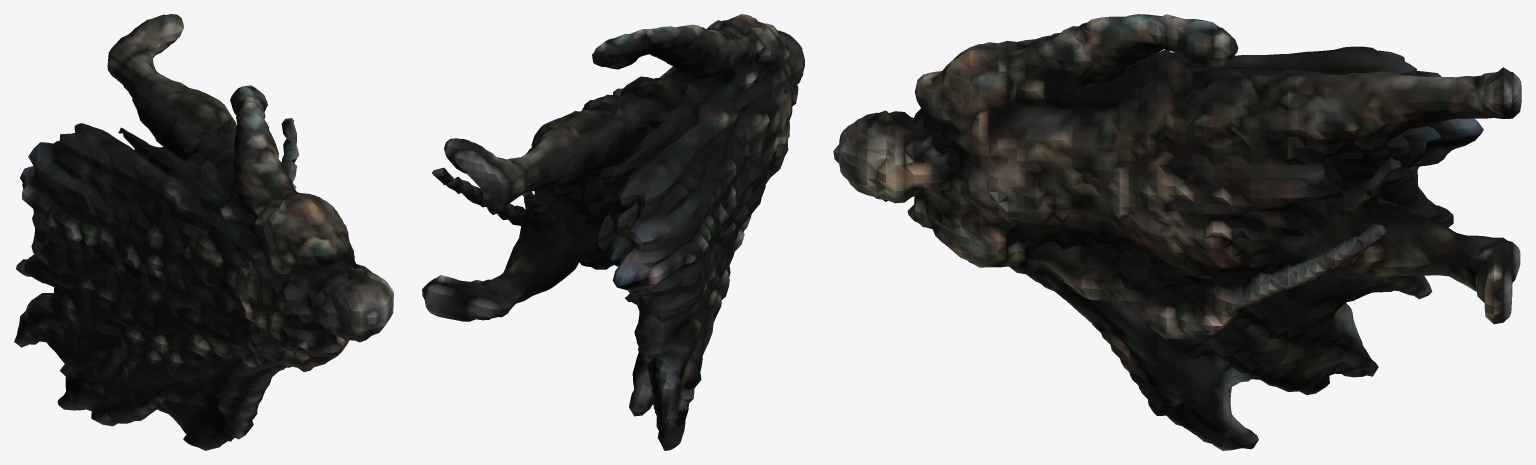
The model's file is rigged.glb.
The picture shows the model from 3 angles, left to right: view 1: azimuth 30°, elevation 25°; view 2: azimuth 150°, elevation 25°; view 3: azimuth 270°, elevation 25°; orthographic projection. The views are drawn at different scales.
Visible parts, largest first — view 1: metarig; view 2: metarig; view 3: metarig.
Part boxes in pixels (bbox=[...]): metarig: bbox=[14, 14, 393, 450]; metarig: bbox=[422, 14, 804, 450]; metarig: bbox=[833, 14, 1521, 450].
Size of the model in its own units: 1.09 by 1.44 by 2.
